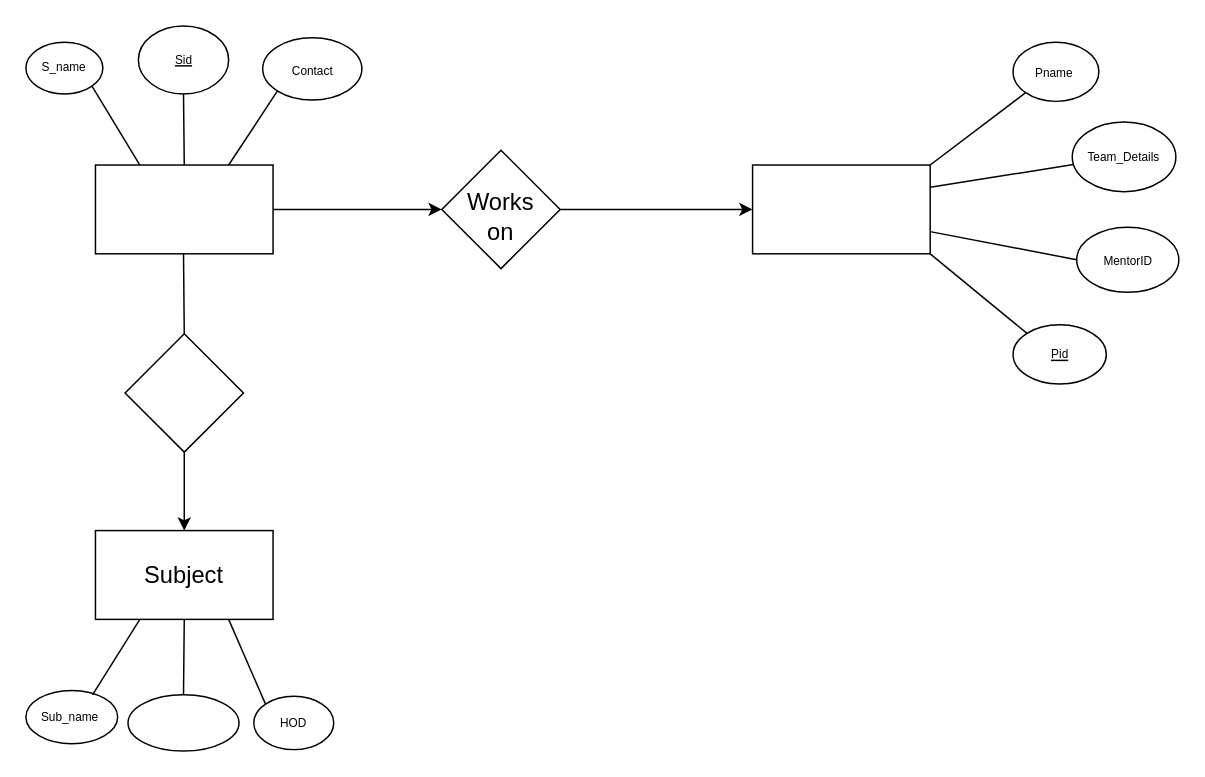
The diagram is 1205 pixels wide and 777 high, and some of its shapes have lost their labels. Each missing label, with the centre of its shape:
Project: (x=840, y=209)
Student: (x=183, y=209)
Studies: (x=183, y=392)
Subid: (x=183, y=722)
